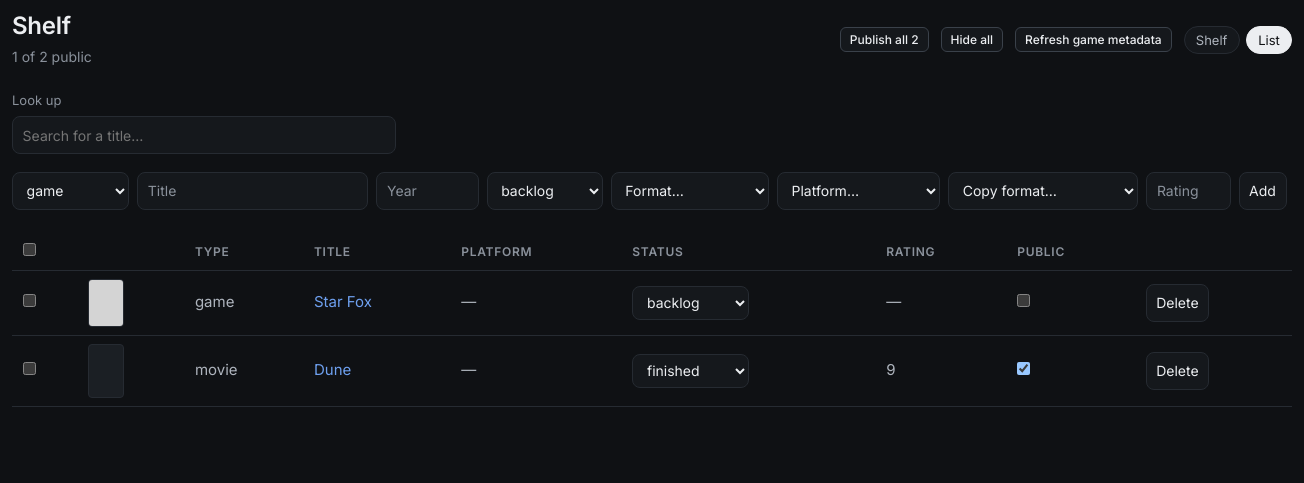
Test: AdminCollection bulk set › selects every row from the header
The width and height of the screenshot is (1304, 483).
What coordinates should you click on to do the following:
click the checkbox named "Select all"
I would click on:
 (30, 249)
Its box is [23,243,36,256].
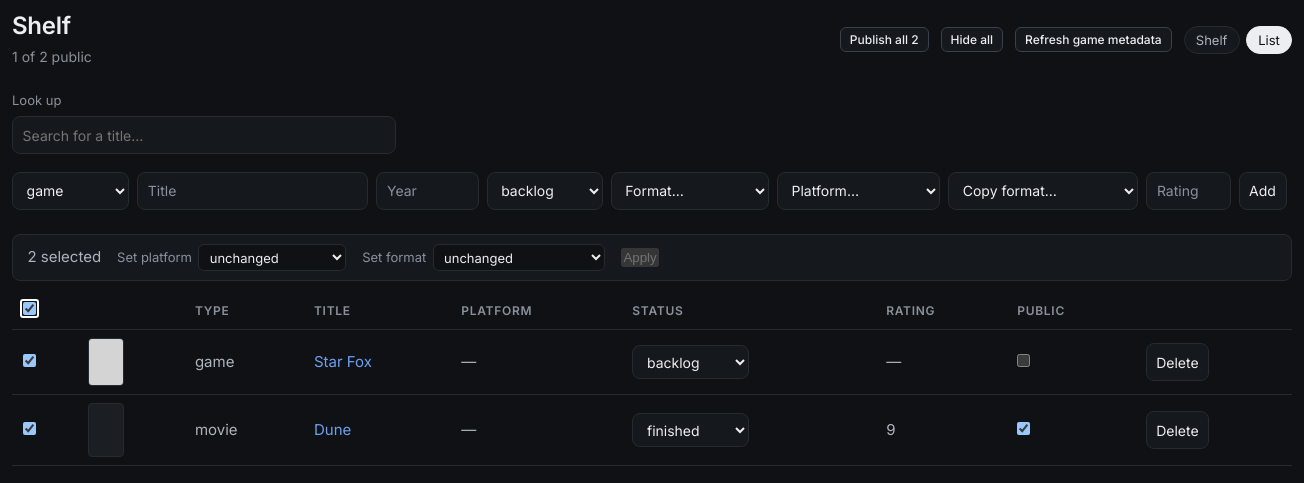
Expected: the text "2 selected" is shown, [27,245,101,270]
Expected: the checkbox named "Select Dune" is checked, [23,422,36,435]
